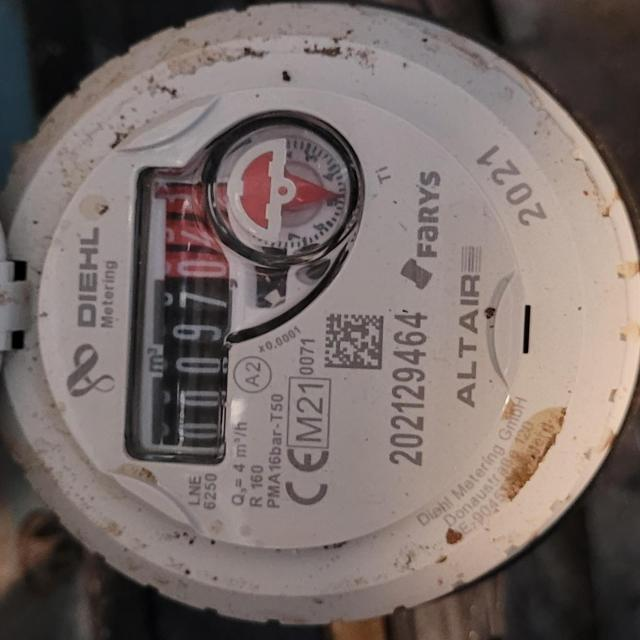gaz_meter: (11, 2, 637, 624)
indication: (136, 167, 222, 459)
